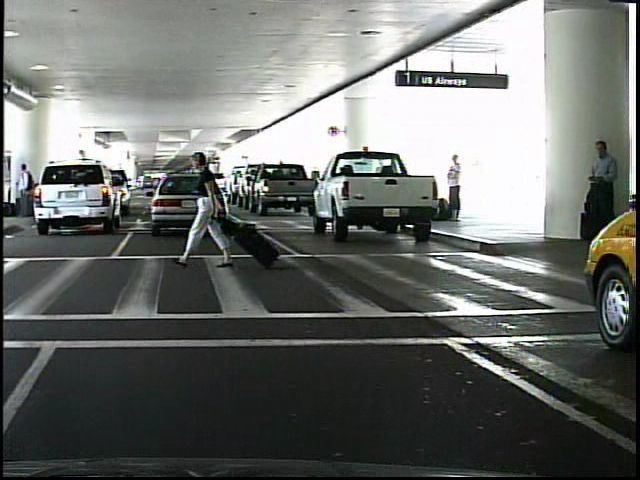person: (192, 152, 238, 271), (577, 136, 617, 250), (442, 152, 468, 223), (19, 161, 38, 222)
